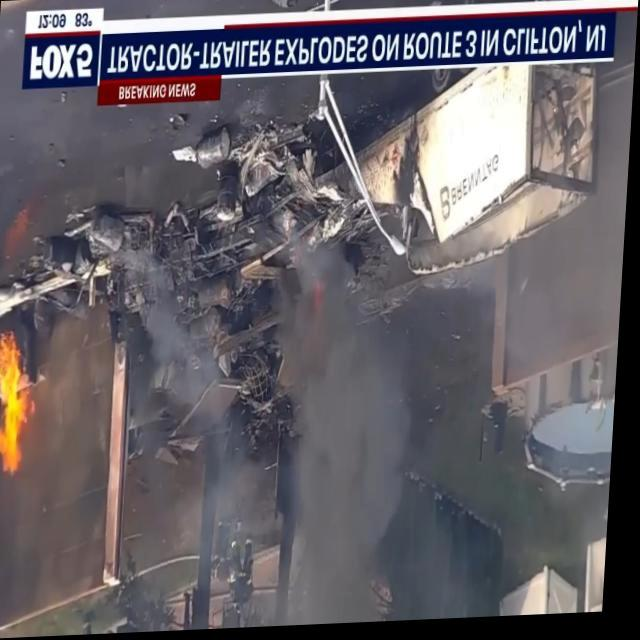fire: (0, 328, 44, 488)
